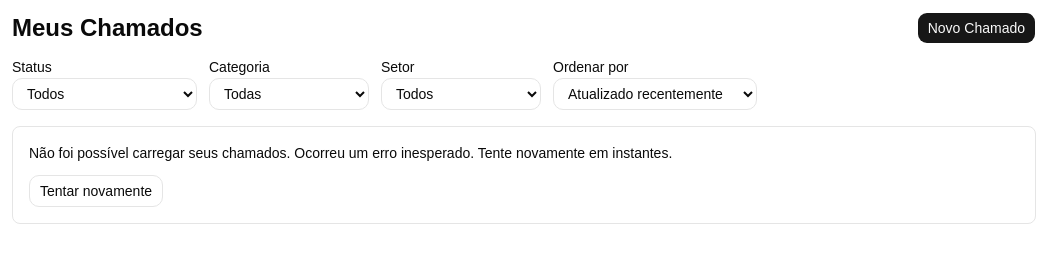
Test: MyTicketsPage (Tela 3, US1.3) › shows the error with a retry action (AC1.3.8)
expect the message shows "Não foi possível carregar seus chamados.": met, box [29,145,672,161]
Click the button "Tentar novamente" at {"x": 96, "y": 191}, box [29,175,163,207]
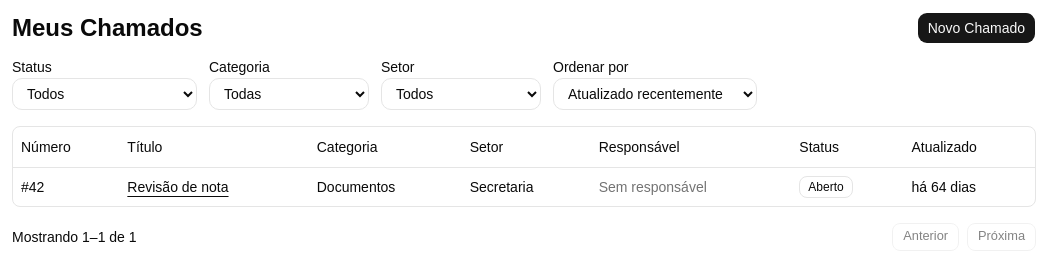
expect the cell "#42" is shown: met, box [13,167,119,206]
